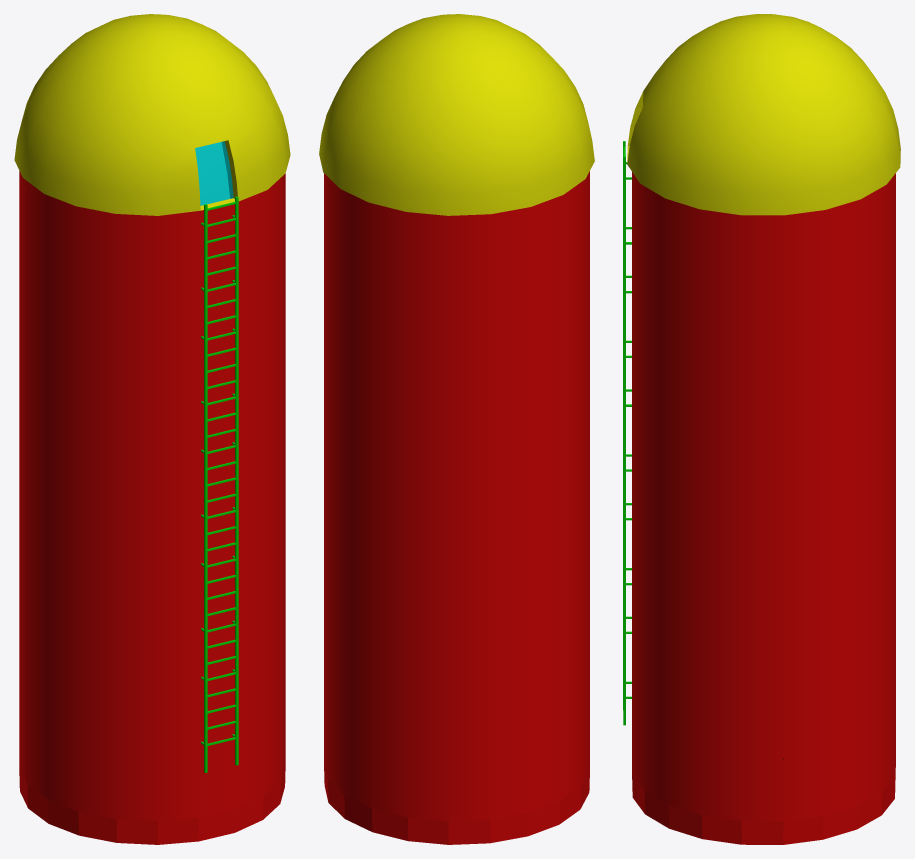
File: Silo_V2.fbx
The picture shows the model from 3 angles, left to right: view 1: azimuth 30°, elevation 25°; view 2: azimuth 150°, elevation 25°; view 3: azimuth 270°, elevation 25°; orthographic projection.
Visible parts, largest first — view 1: Silo_V2; view 2: Silo_V2; view 3: Silo_V2.
Part boxes in pixels (x1,y1,x2,y2): Silo_V2: (14,14,290,844); Silo_V2: (319,14,594,844); Silo_V2: (623,14,900,844).
Bounding box in the file's own units: 458 × 1412 × 465.
